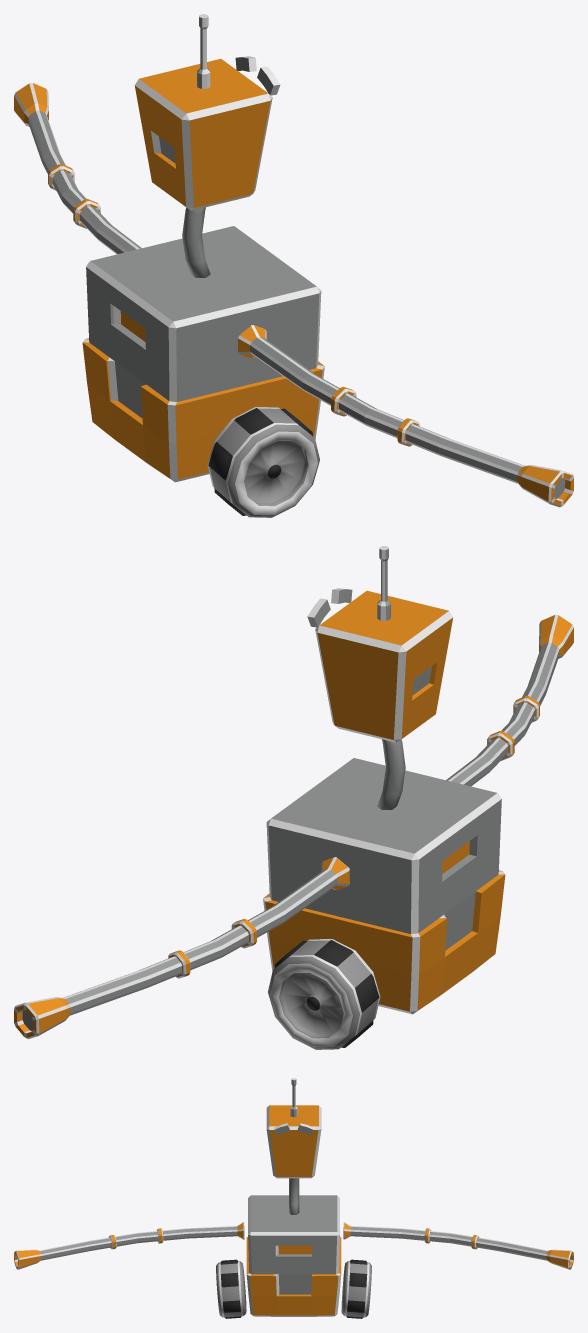
3 views of the same model, one above another, from view 1: azimuth 30°, elevation 25°; view 2: azimuth 150°, elevation 25°; view 3: azimuth 270°, elevation 25° (orthographic). The views are drawn at different scales.
Visible parts, largest first — view 1: Body; view 2: Body; view 3: Body.
Part boxes in pixels (x1,y1,x2,y2): Body: (14, 14, 573, 517); Body: (14, 546, 573, 1049); Body: (14, 1078, 573, 1318).
Bounding box in the file's own units: 88.55 × 205 × 438.
